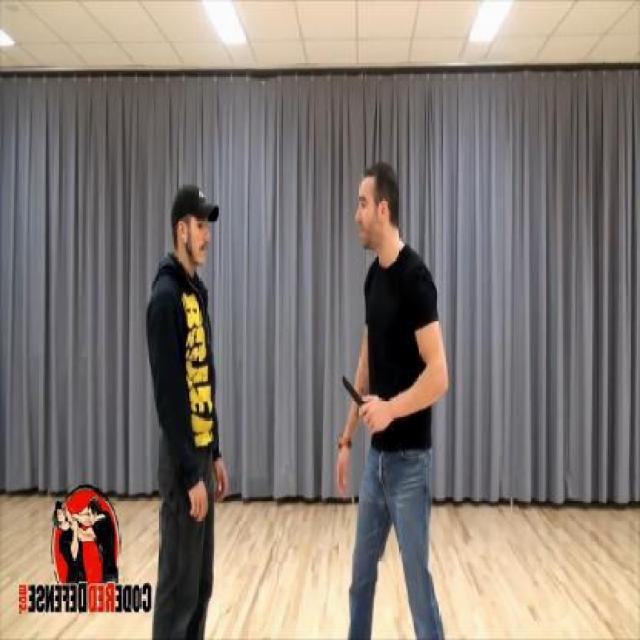knife: (340, 369, 378, 434)
